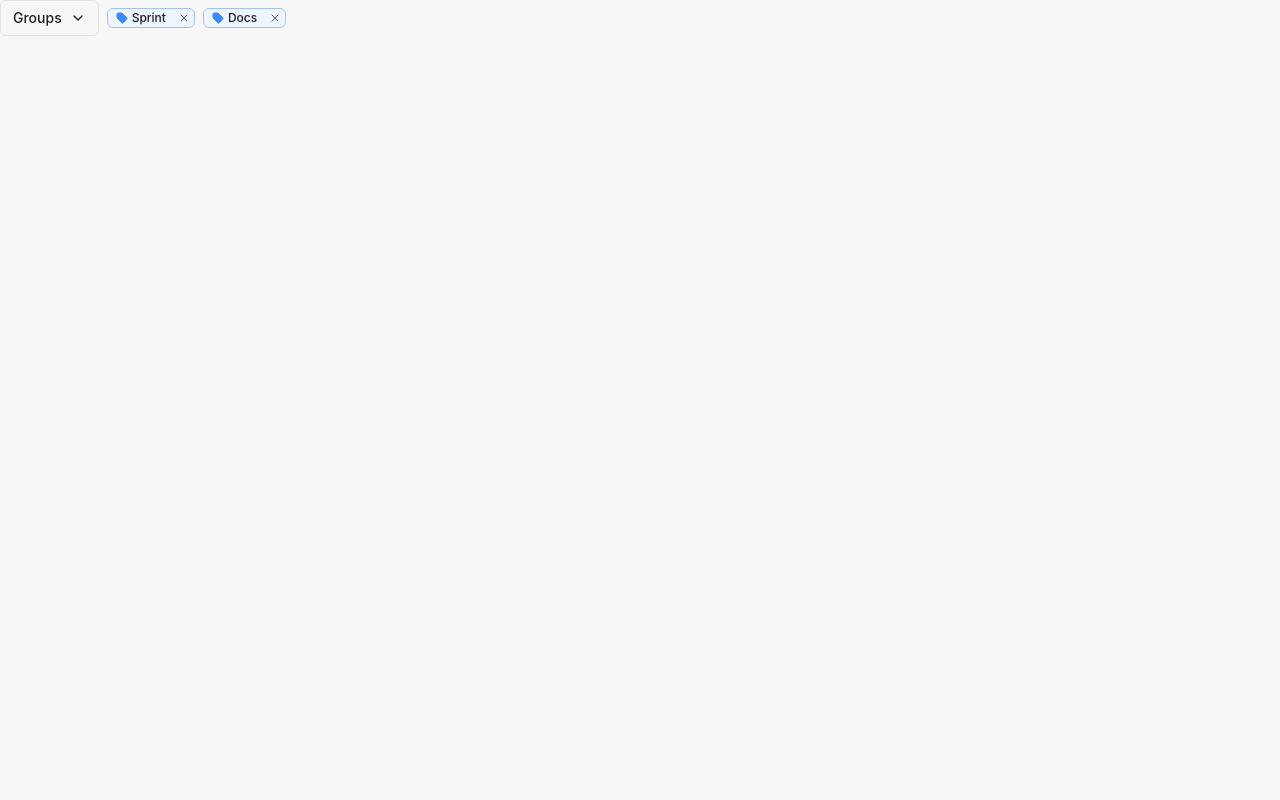
Scenario: DetailGroupsRow › chip x opens confirm with Cancel focused; Cancel restores focus without invoking
The image size is (1280, 800).
Click the button named "Remove from “Docs”". click: [275, 18]
box: [265, 8, 285, 28]
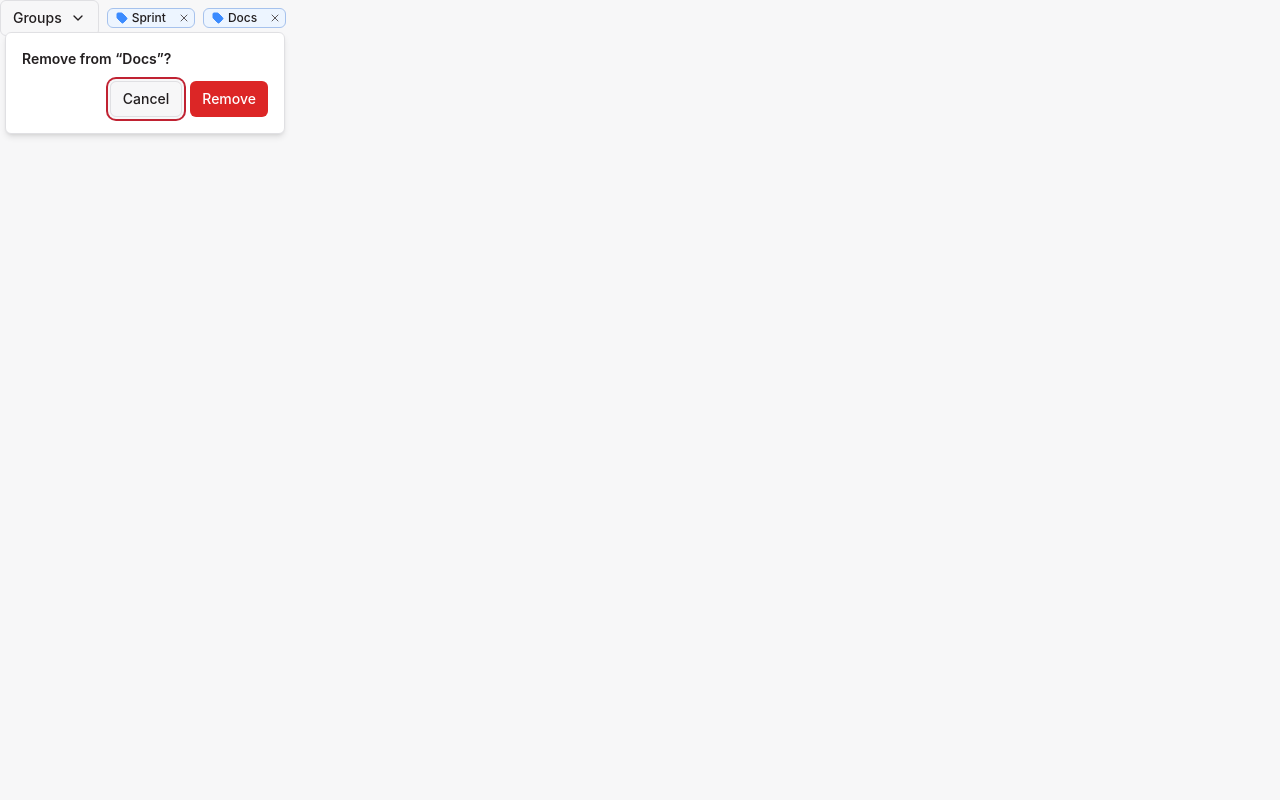
Result: the text "Remove from “Docs”?" is shown at [22, 50, 171, 67]
Click the button "Cancel". click: [146, 99]
box: [110, 81, 182, 117]
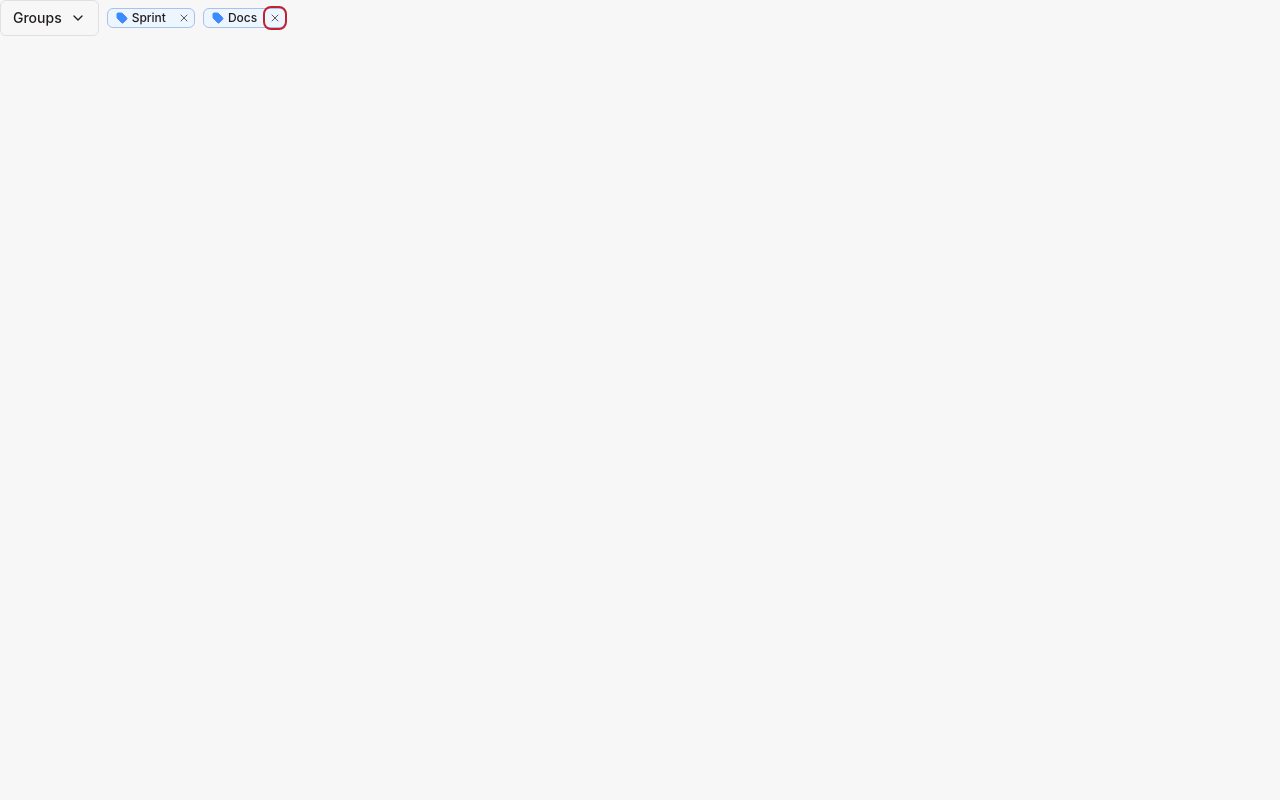
Result: the text "Remove from “Docs”?" is gone
